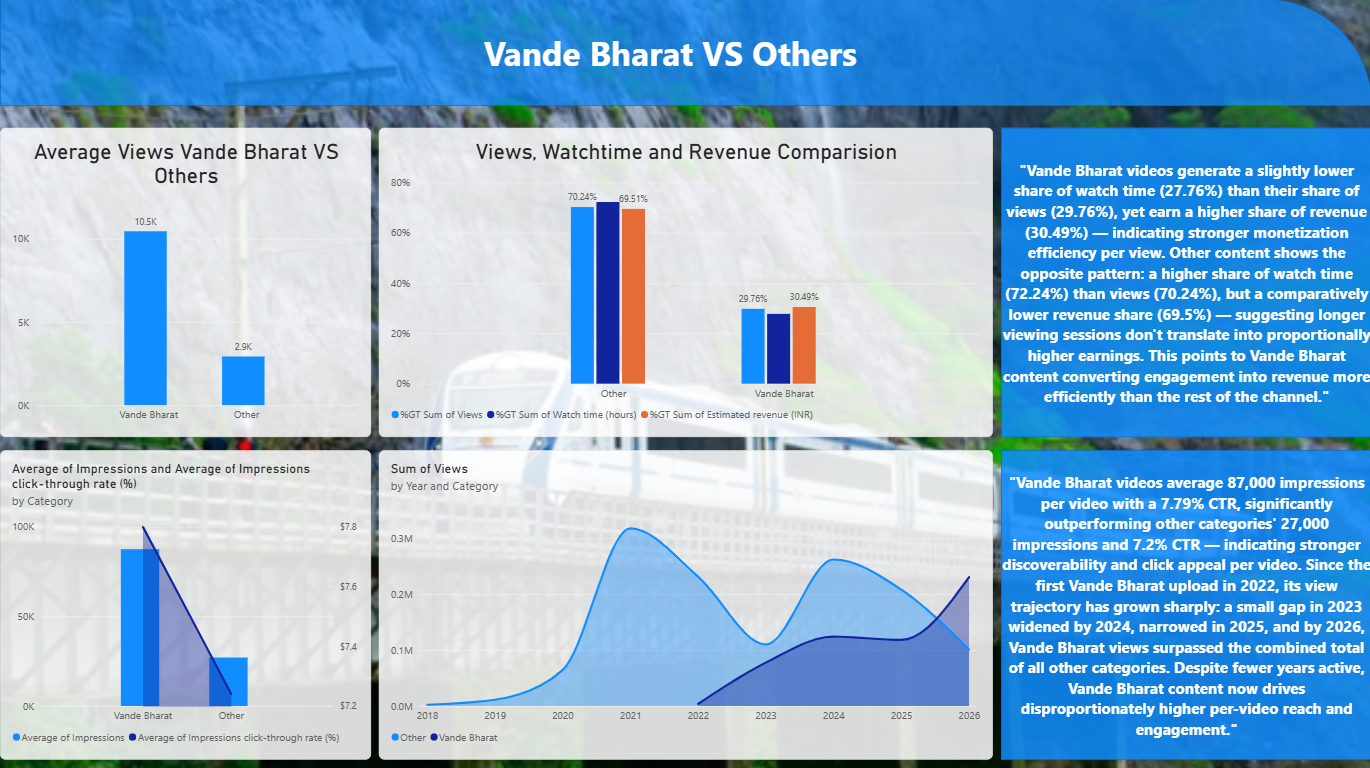

The dashboard page shown, as its layout file describes it:
{"tool":"powerbi","page":{"name":"Page 3","canvas":[1920,1080],"ordinal":2},"visuals":[{"type":"columnChart","title":"Average Views Vande Bharat VS Others","fields":{"Category":["Youtube Video Dataset.Category "],"Y":["Avg(Youtube Video Dataset.Views)"]},"box":[0,179.6,519.4,432.8],"z":0},{"type":"clusteredColumnChart","title":"Views, Watchtime and Revenue Comparision","fields":{"Category":["Youtube Video Dataset.Category "],"Y":["Divide(Sum(Youtube Video Dataset.Views), ScopedEval(Sum(Youtube Video Dataset.Views), []))","Divide(Sum(Youtube Video Dataset.Watch time (hours)), ScopedEval(Sum(Youtube Video Dataset.Watch time (hours)), []))","Sum(Youtube Video Dataset.Estimated revenue (INR))"]},"box":[530.2,179.6,859.2,432.8],"z":1},{"type":"shape","box":[1400.2,179.6,519,433],"z":3},{"type":"lineStackedColumnComboChart","fields":{"Category":["Youtube Video Dataset.Category "],"Y":["Avg(Youtube Video Dataset.Impressions)"],"Y2":["Avg(Youtube Video Dataset.Impressions click-through rate (%))"]},"box":[0,631.9,519,433],"z":4},{"type":"areaChart","fields":{"Category":["Youtube Video Dataset.Published Date.Variation.Date Hierarchy.Year"],"Series":["Youtube Video Dataset.Category "],"Y":["Sum(Youtube Video Dataset.Views)"]},"box":[530.2,631.9,859,433],"z":5},{"type":"shape","box":[1400.2,631.9,519,433],"z":6},{"type":"shape","box":[0,0,1919.6,149.3],"z":7}]}

Visuals, with their boxes in screenshot pixels (x1, y1, x2, y2), scaled from the page's 1920x1080 canvas onto the 1370x768 screenshot:
"Average Views Vande Bharat VS Others" columnChart: bbox=[0, 128, 371, 435]
"Views, Watchtime and Revenue Comparision" clusteredColumnChart: bbox=[378, 128, 991, 435]
shape: bbox=[999, 128, 1369, 436]
lineStackedColumnComboChart - Youtube Video Dataset.Category  x Avg(Youtube Video Dataset.Impressions): bbox=[0, 449, 370, 757]
areaChart - Youtube Video Dataset.Published Date.Variation.Date Hierarchy.Year x Youtube Video Dataset.Category : bbox=[378, 449, 991, 757]
shape: bbox=[999, 449, 1369, 757]
shape: bbox=[0, 0, 1369, 106]
